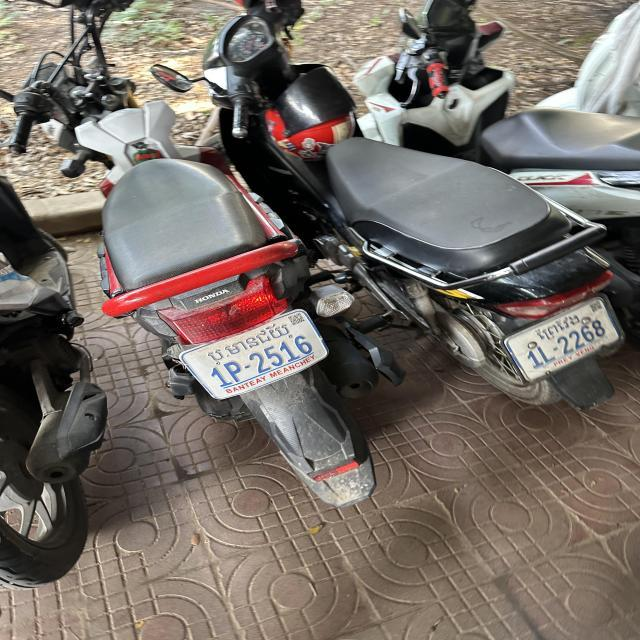Banteay_Meanchey: (206, 320, 289, 362)
Prey_Veng: (532, 313, 580, 340)
